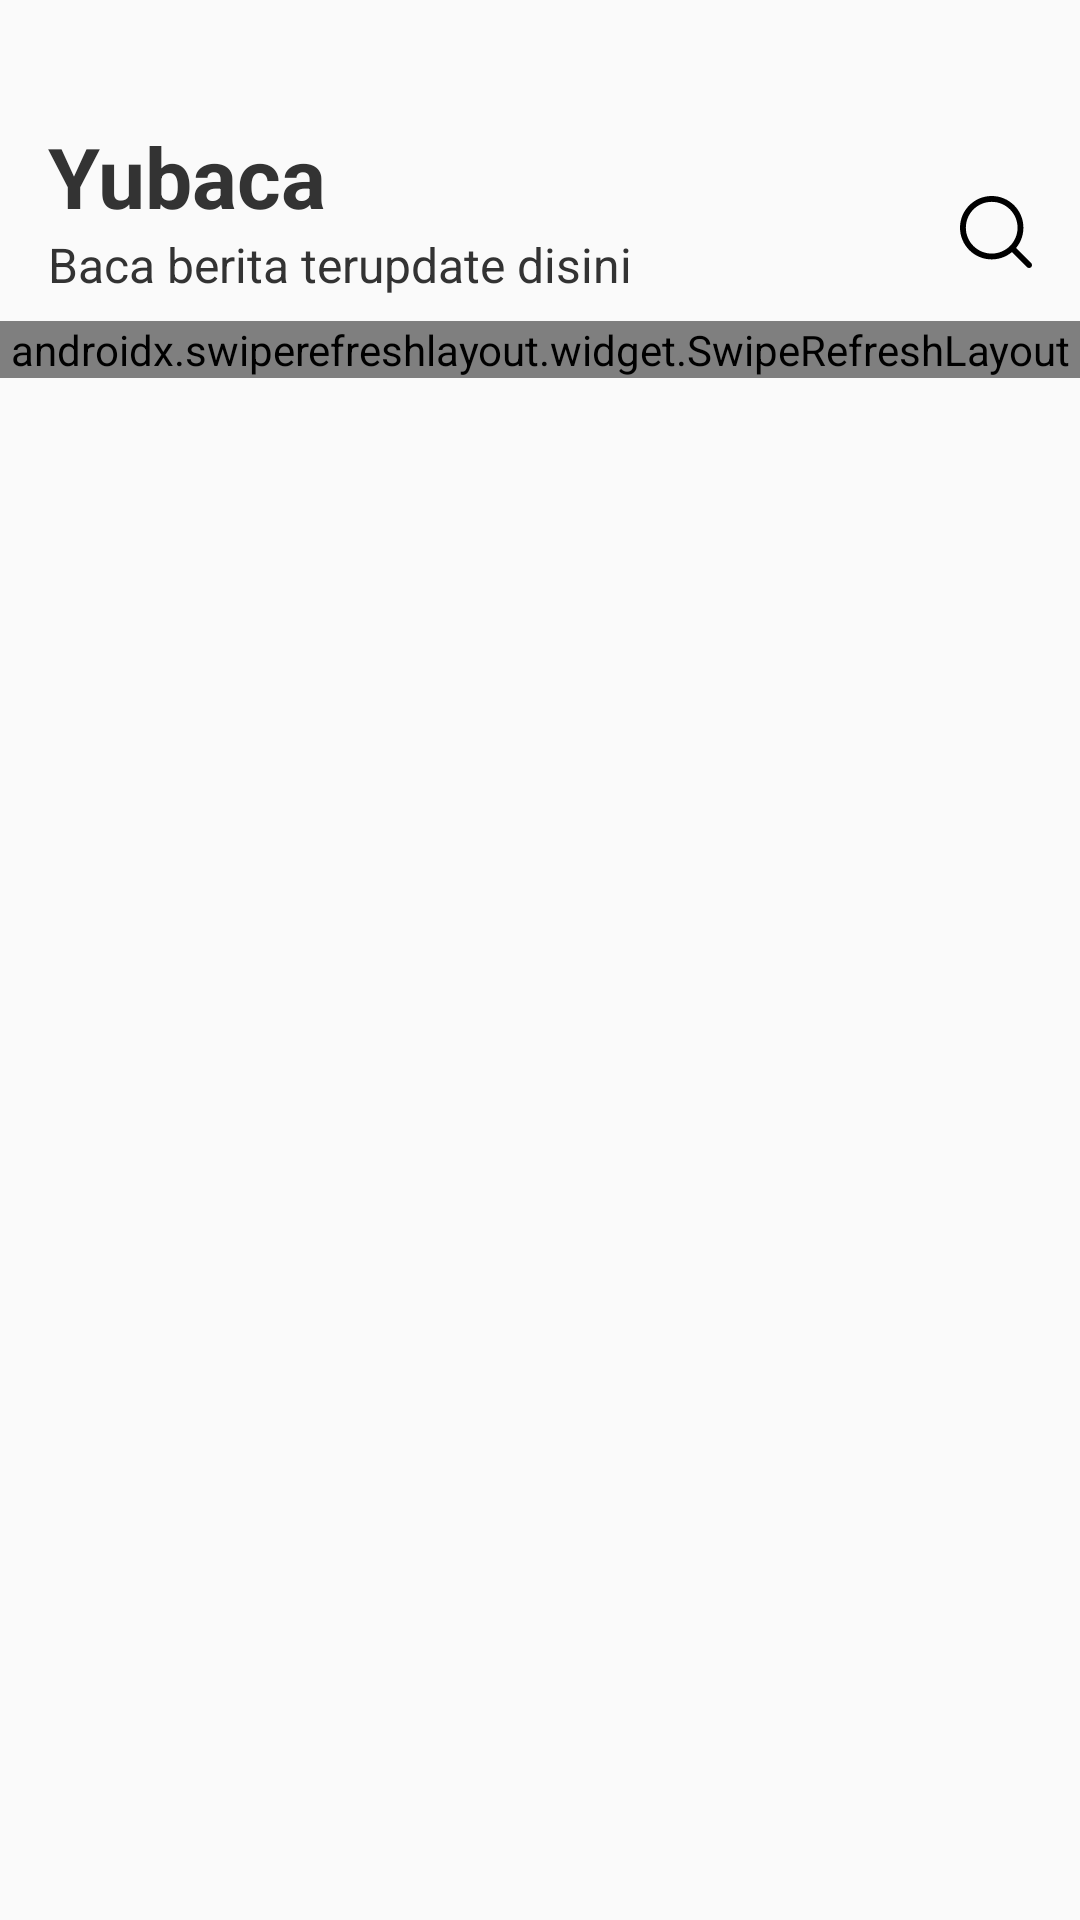

Icon bounding boxes for this 1080×1920 phone screenshot, format (x1, y1, x2, y2):
search: (960, 196, 1032, 268)
